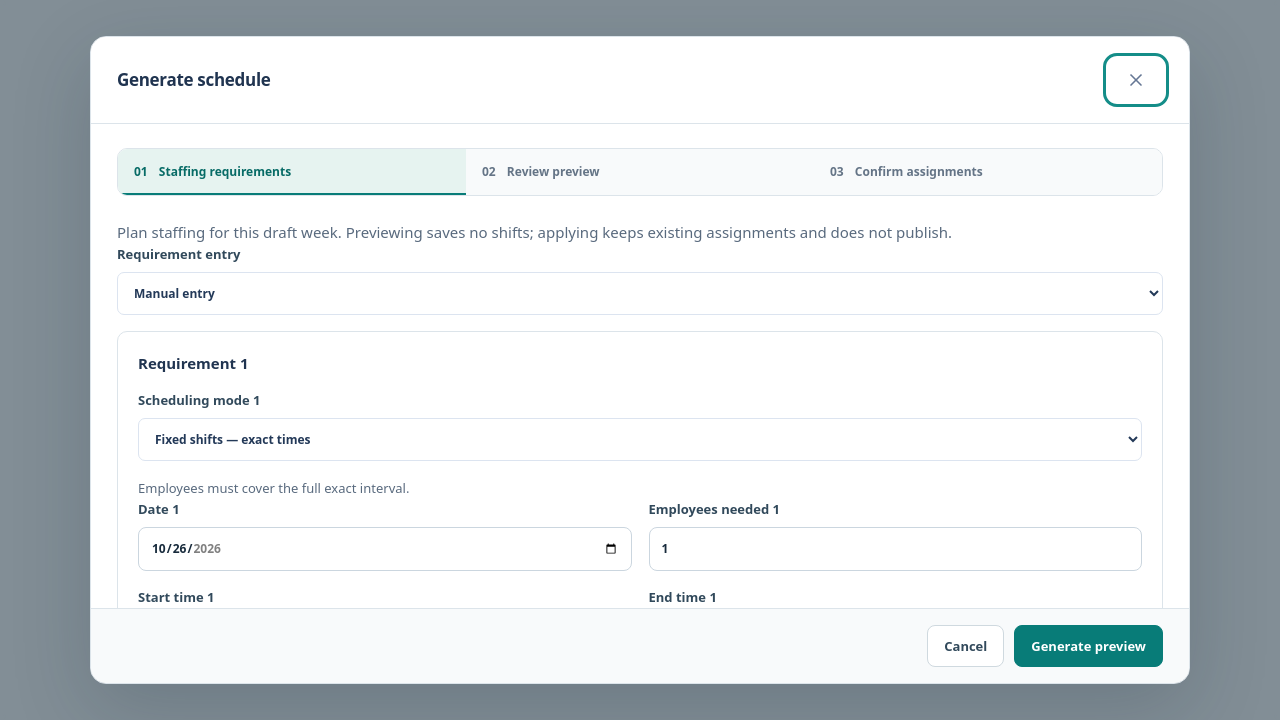
Test: shows minimum-length shortages without suggesting simultaneous coverage
Select "Flexible shifts — staffing window" in the dropdown labelled "Scheduling mode 1": (640, 440) [138,418,1142,461]
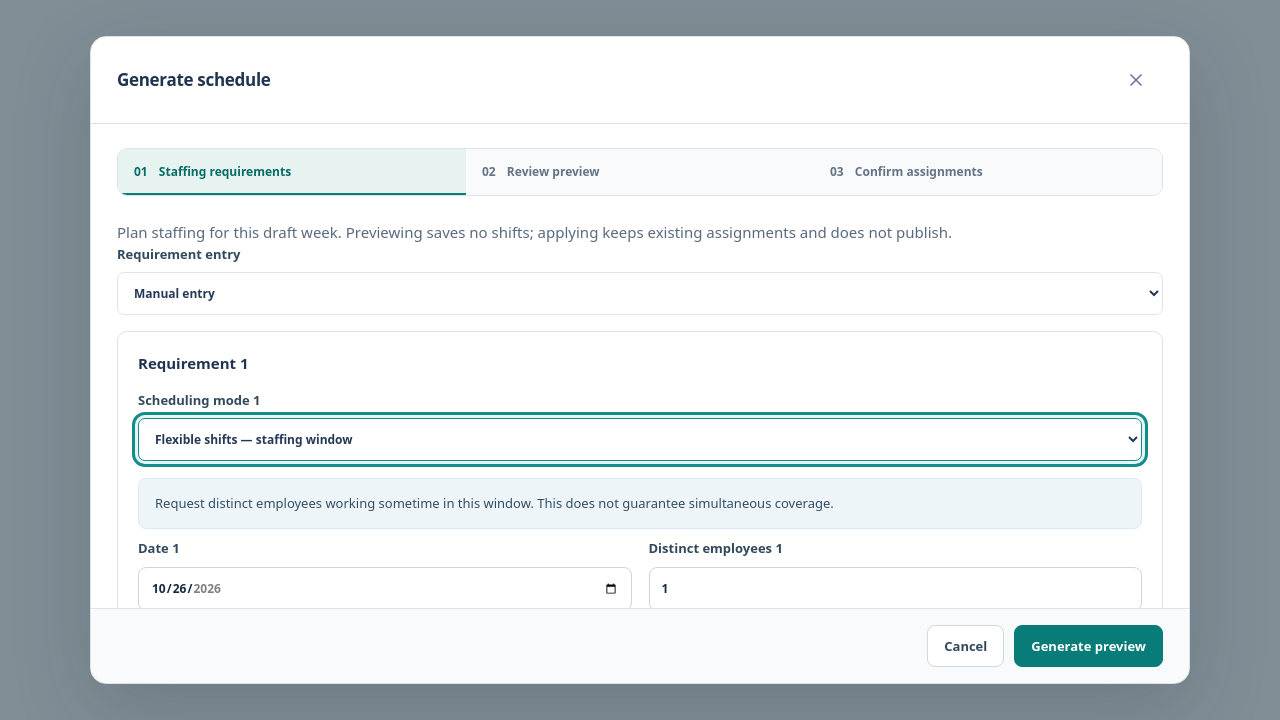
Click the button "Generate preview": (1089, 646) [1014,625,1163,667]
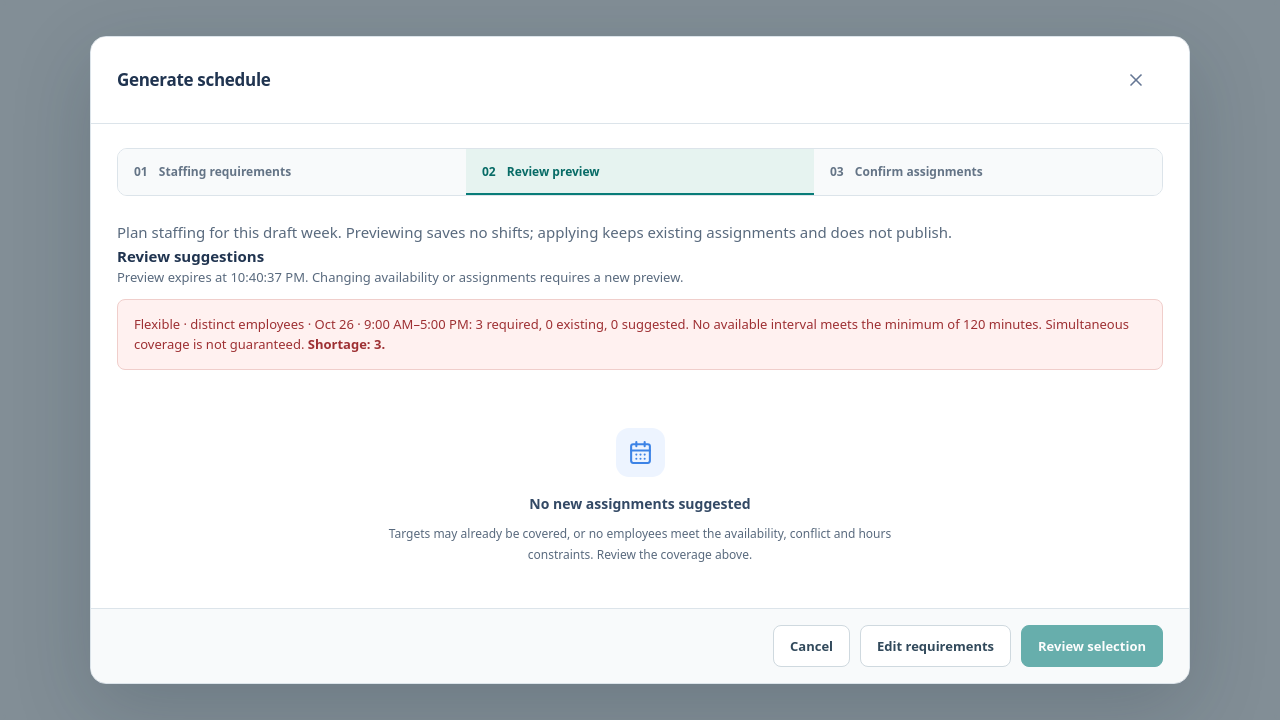
Expected: the text "minimum of 120 minutes" is shown, [134,315,1129,354]
Expected: the text "Shortage: 3." is shown, [304,336,385,354]
Expected: the button "Review selection" is disabled, [1021,625,1163,667]
